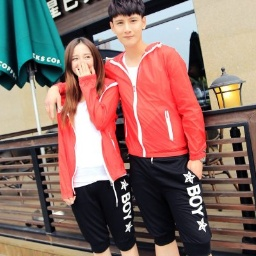face: (60, 35, 106, 83), (107, 1, 148, 49)
